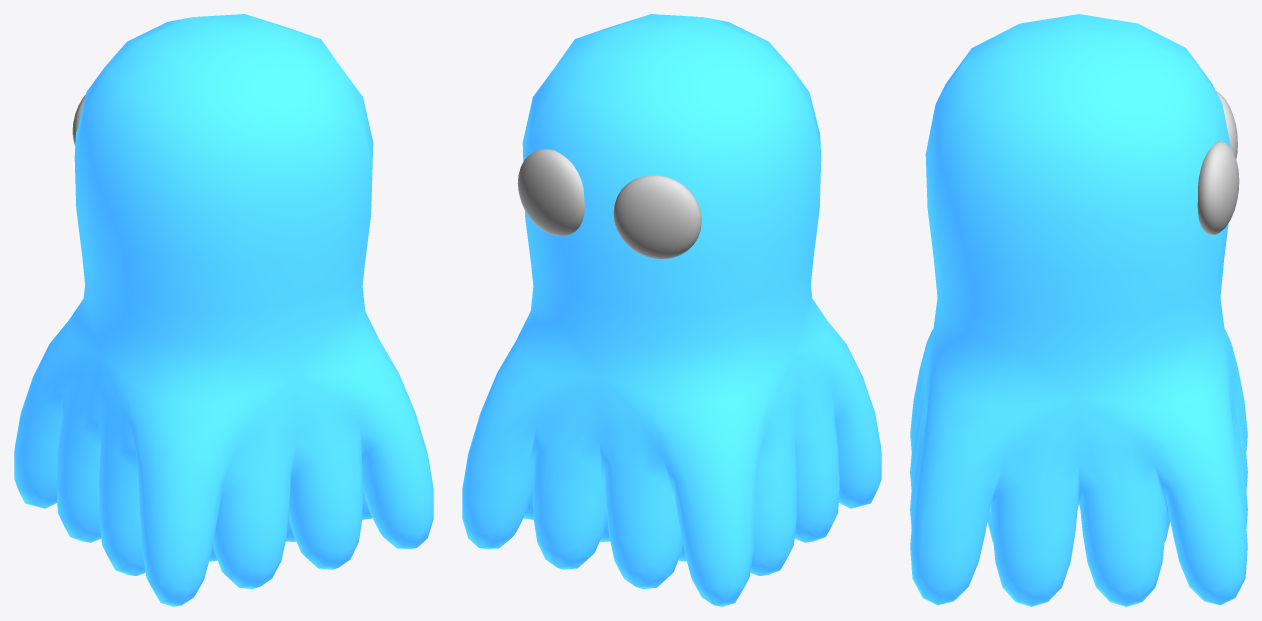
Rendered from Ghost.fbx.
3 views of the same model, side by side, from view 1: azimuth 30°, elevation 25°; view 2: azimuth 150°, elevation 25°; view 3: azimuth 270°, elevation 25° (orthographic). The views are drawn at different scales.
Parts seen in each view (by area): view 1: Cube; view 2: Cube; view 3: Cube.
Part boxes in pixels (x1=…): Cube: x1=14, y1=14, x2=433, y2=606; Cube: x1=462, y1=14, x2=881, y2=606; Cube: x1=910, y1=14, x2=1247, y2=606.
Size of the model in its own units: 1.77 by 2.99 by 1.77.
